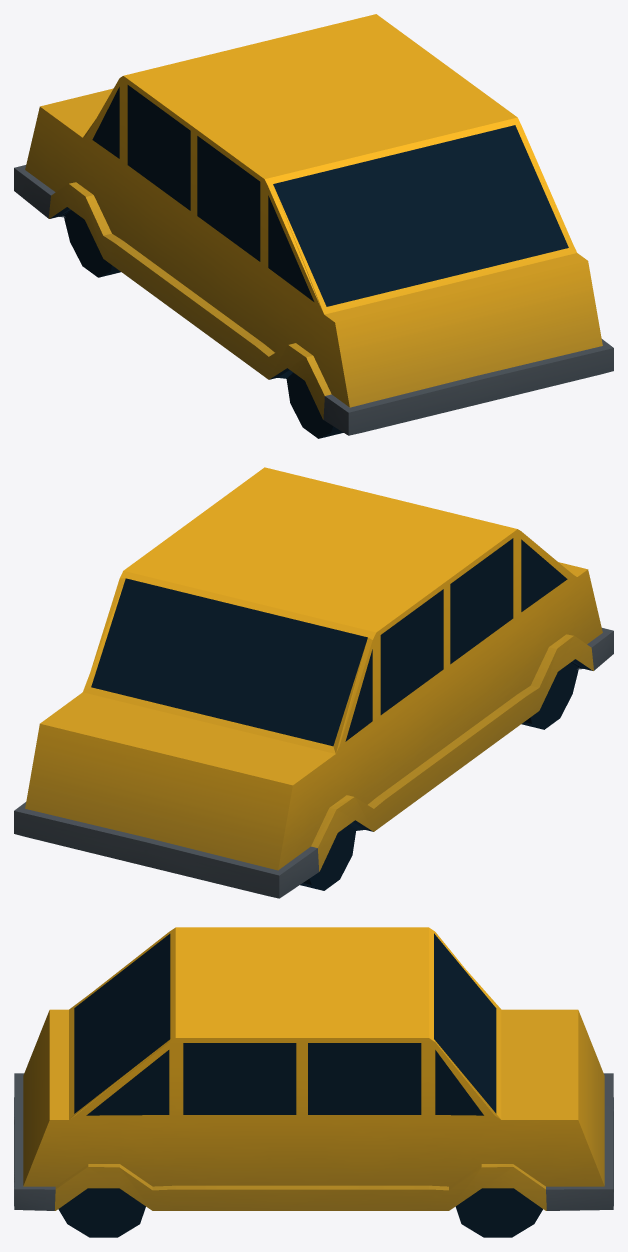
File: Car.fbx
3 renders of one model, top to bottom at view 1: azimuth 30°, elevation 25°; view 2: azimuth 150°, elevation 25°; view 3: azimuth 270°, elevation 25°, orthographic. The views are drawn at different scales.
Parts seen in each view (by area): view 1: Box001; view 2: Box001; view 3: Box001.
Boxes of the visible parts, left/top/right/bottom form: Box001: left=14, top=14, right=613, bottom=438; Box001: left=14, top=467, right=613, bottom=898; Box001: left=14, top=927, right=613, bottom=1237.
Bounding box in the file's own units: 95.14 × 75.89 × 204.
1 material, 1 textured.
